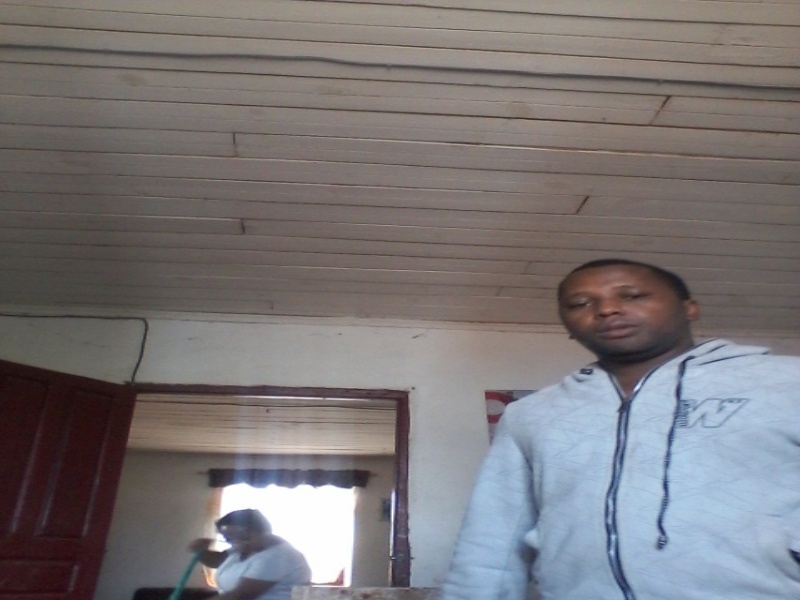TsisyArotava: (551, 249, 691, 366)
